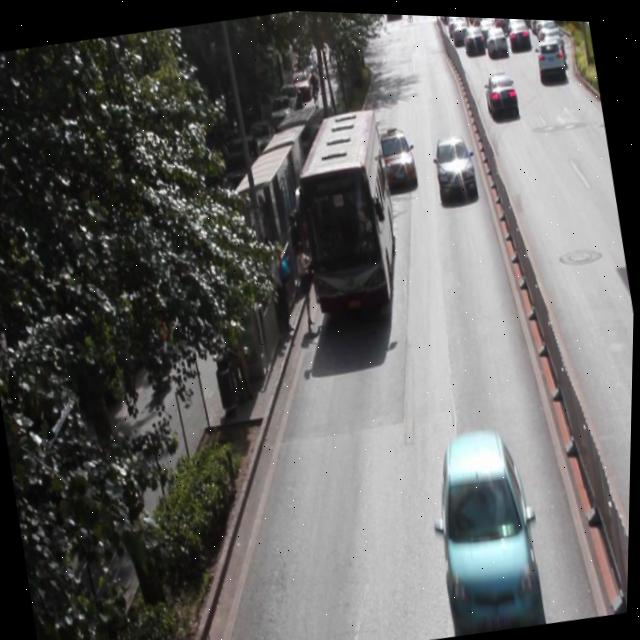car: (423, 419, 549, 635), (429, 130, 477, 195), (374, 123, 418, 185), (482, 67, 519, 113)
van: (285, 104, 408, 317)
